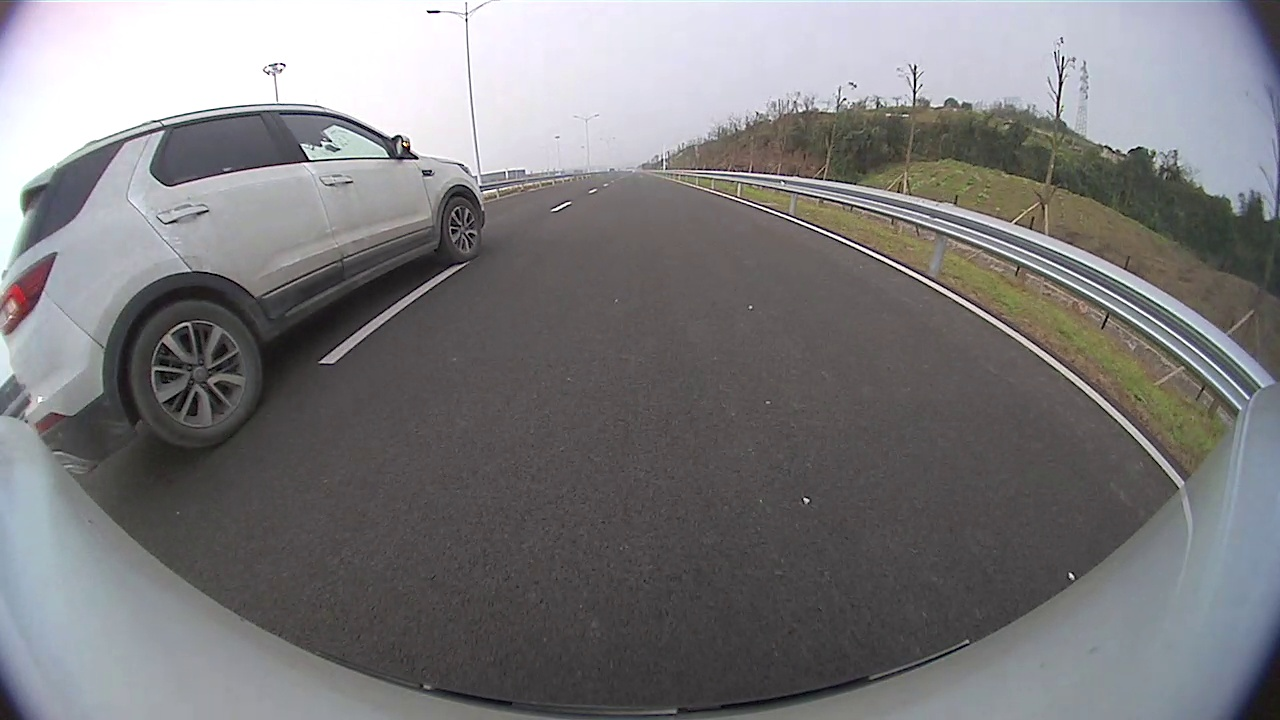car: (7, 100, 487, 480)
front: (441, 193, 485, 261)
rear: (125, 296, 269, 453)
